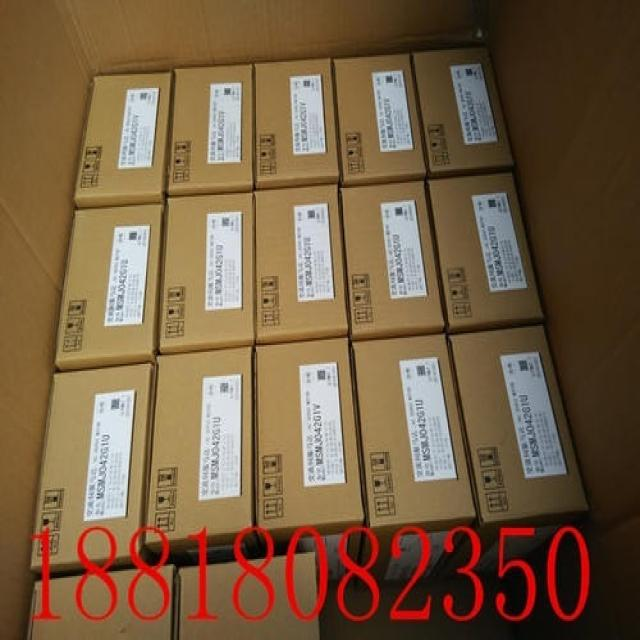box: (0, 0, 639, 637), (434, 323, 591, 590), (348, 333, 480, 597), (253, 336, 365, 597), (29, 363, 153, 576), (144, 343, 263, 563), (425, 169, 542, 330), (55, 204, 164, 370), (154, 191, 257, 352), (341, 182, 445, 335), (253, 186, 350, 342), (72, 70, 173, 205), (411, 46, 514, 173), (331, 51, 429, 184), (176, 549, 319, 638), (163, 62, 255, 191), (254, 58, 341, 189), (25, 565, 177, 638)
